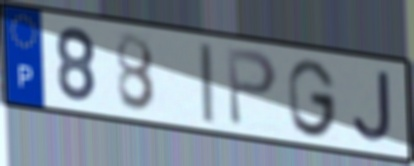8: (53, 24, 99, 105), (113, 31, 157, 114)
G: (286, 56, 340, 139)
I: (196, 40, 217, 126)
J: (350, 69, 394, 146)
P: (224, 44, 281, 130)
